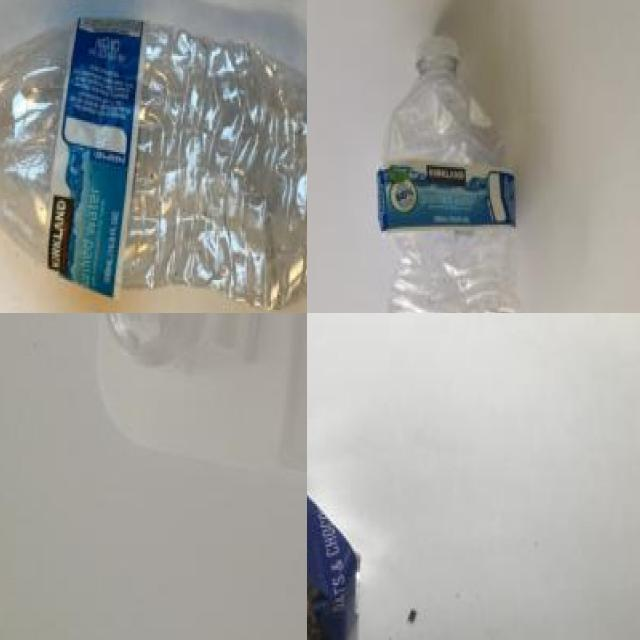plastic: (0, 17, 307, 313), (373, 19, 539, 313), (91, 313, 307, 504)
trash: (307, 384, 412, 640)
